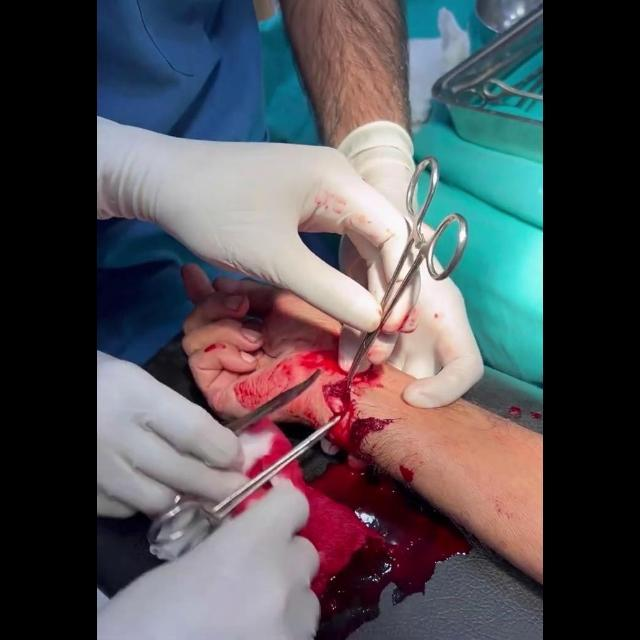blood: (282, 380, 473, 640), (307, 461, 472, 640), (299, 487, 369, 597), (297, 332, 392, 389), (235, 362, 297, 413), (249, 419, 293, 479), (350, 419, 393, 450), (230, 482, 273, 512), (323, 379, 350, 415), (202, 344, 231, 371), (277, 461, 303, 488)
